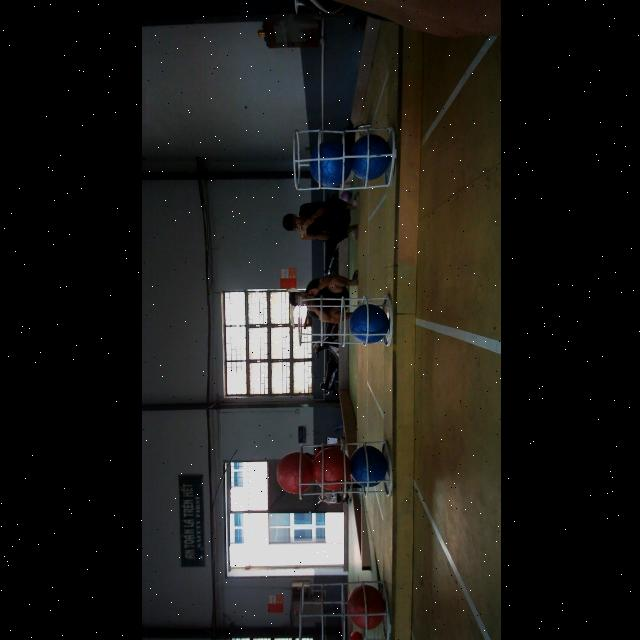B: (348, 132, 392, 180), (308, 140, 349, 188), (348, 444, 386, 488), (348, 304, 388, 344)
R: (346, 585, 384, 631), (312, 446, 350, 489), (274, 452, 312, 494)
